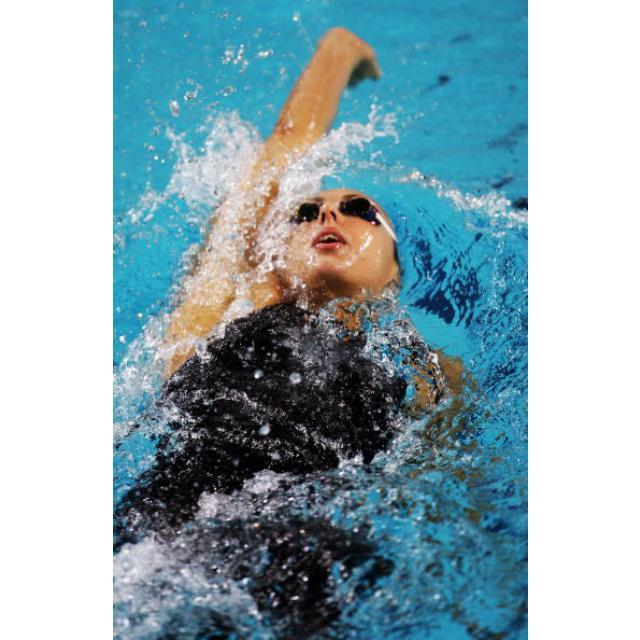human: (169, 29, 402, 513)
